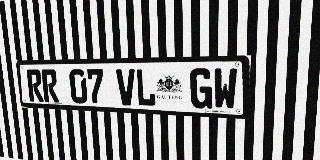0: (69, 69, 88, 104)
7: (86, 69, 105, 104)
G: (190, 68, 213, 109)
L: (135, 69, 156, 107)
R: (41, 69, 59, 103), (26, 69, 44, 102)
V: (116, 69, 136, 106)
W: (213, 68, 238, 110)
